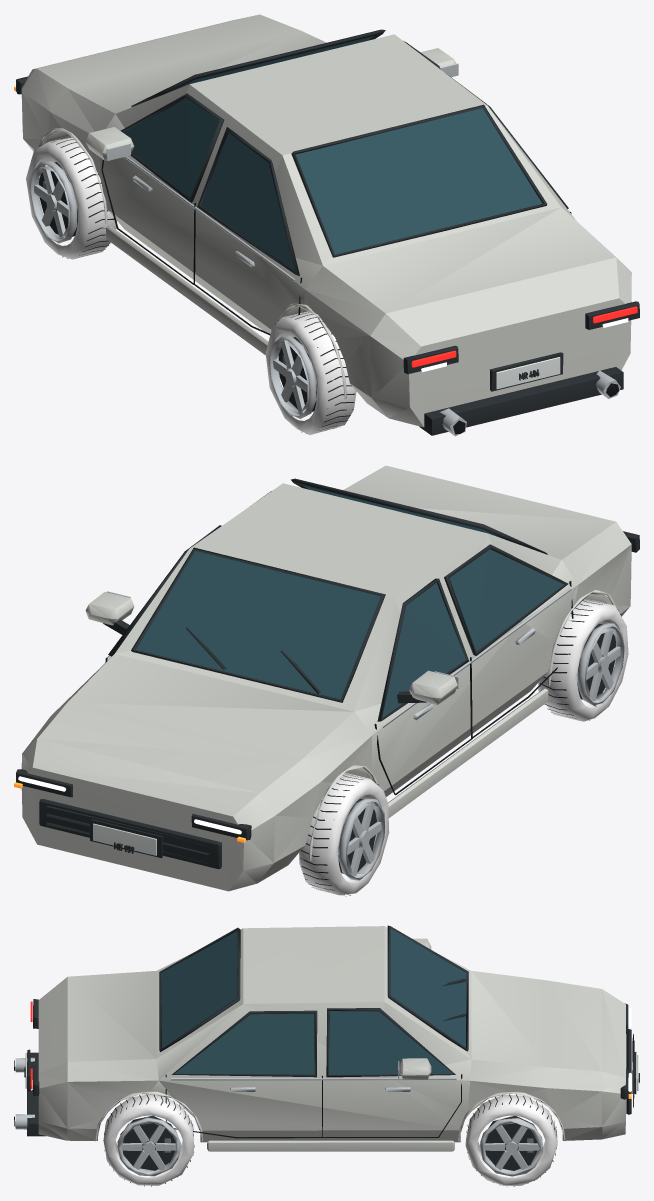
Rendered from vehicle_maris_executive_sedan_lod2.glb.
The picture shows the model from 3 angles, top to bottom: view 1: azimuth 30°, elevation 25°; view 2: azimuth 150°, elevation 25°; view 3: azimuth 270°, elevation 25°; orthographic projection. The views are drawn at different scales.
Parts seen in each view (by area): view 1: vehicle_lod2; view 2: vehicle_lod2; view 3: vehicle_lod2.
Part boxes in pixels (box(x1,y1,x2,y2)): vehicle_lod2: box(14, 14, 639, 436); vehicle_lod2: box(14, 465, 639, 896); vehicle_lod2: box(14, 925, 639, 1186).
Size of the model in its own units: 2.55 by 1.55 by 5.13.
